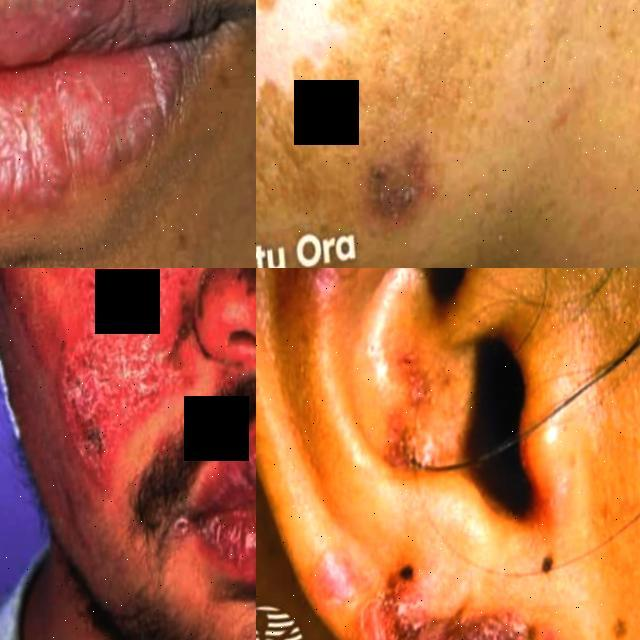lupus-detected: (256, 268, 640, 640), (0, 268, 256, 581), (0, 0, 256, 268), (256, 0, 512, 268), (175, 386, 256, 640)
